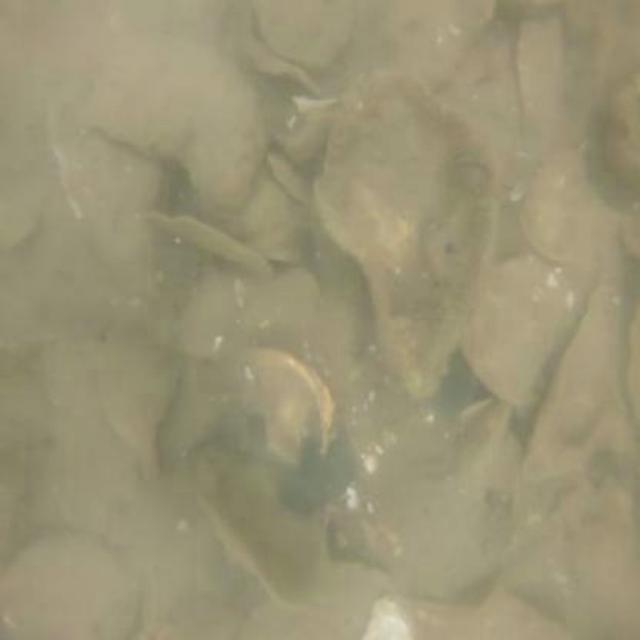Oyster-Closed: (309, 68, 503, 398), (80, 39, 260, 209), (461, 255, 570, 410), (1, 538, 140, 638), (99, 318, 182, 459), (254, 1, 351, 68)
Oyster-Open: (241, 352, 335, 462)
